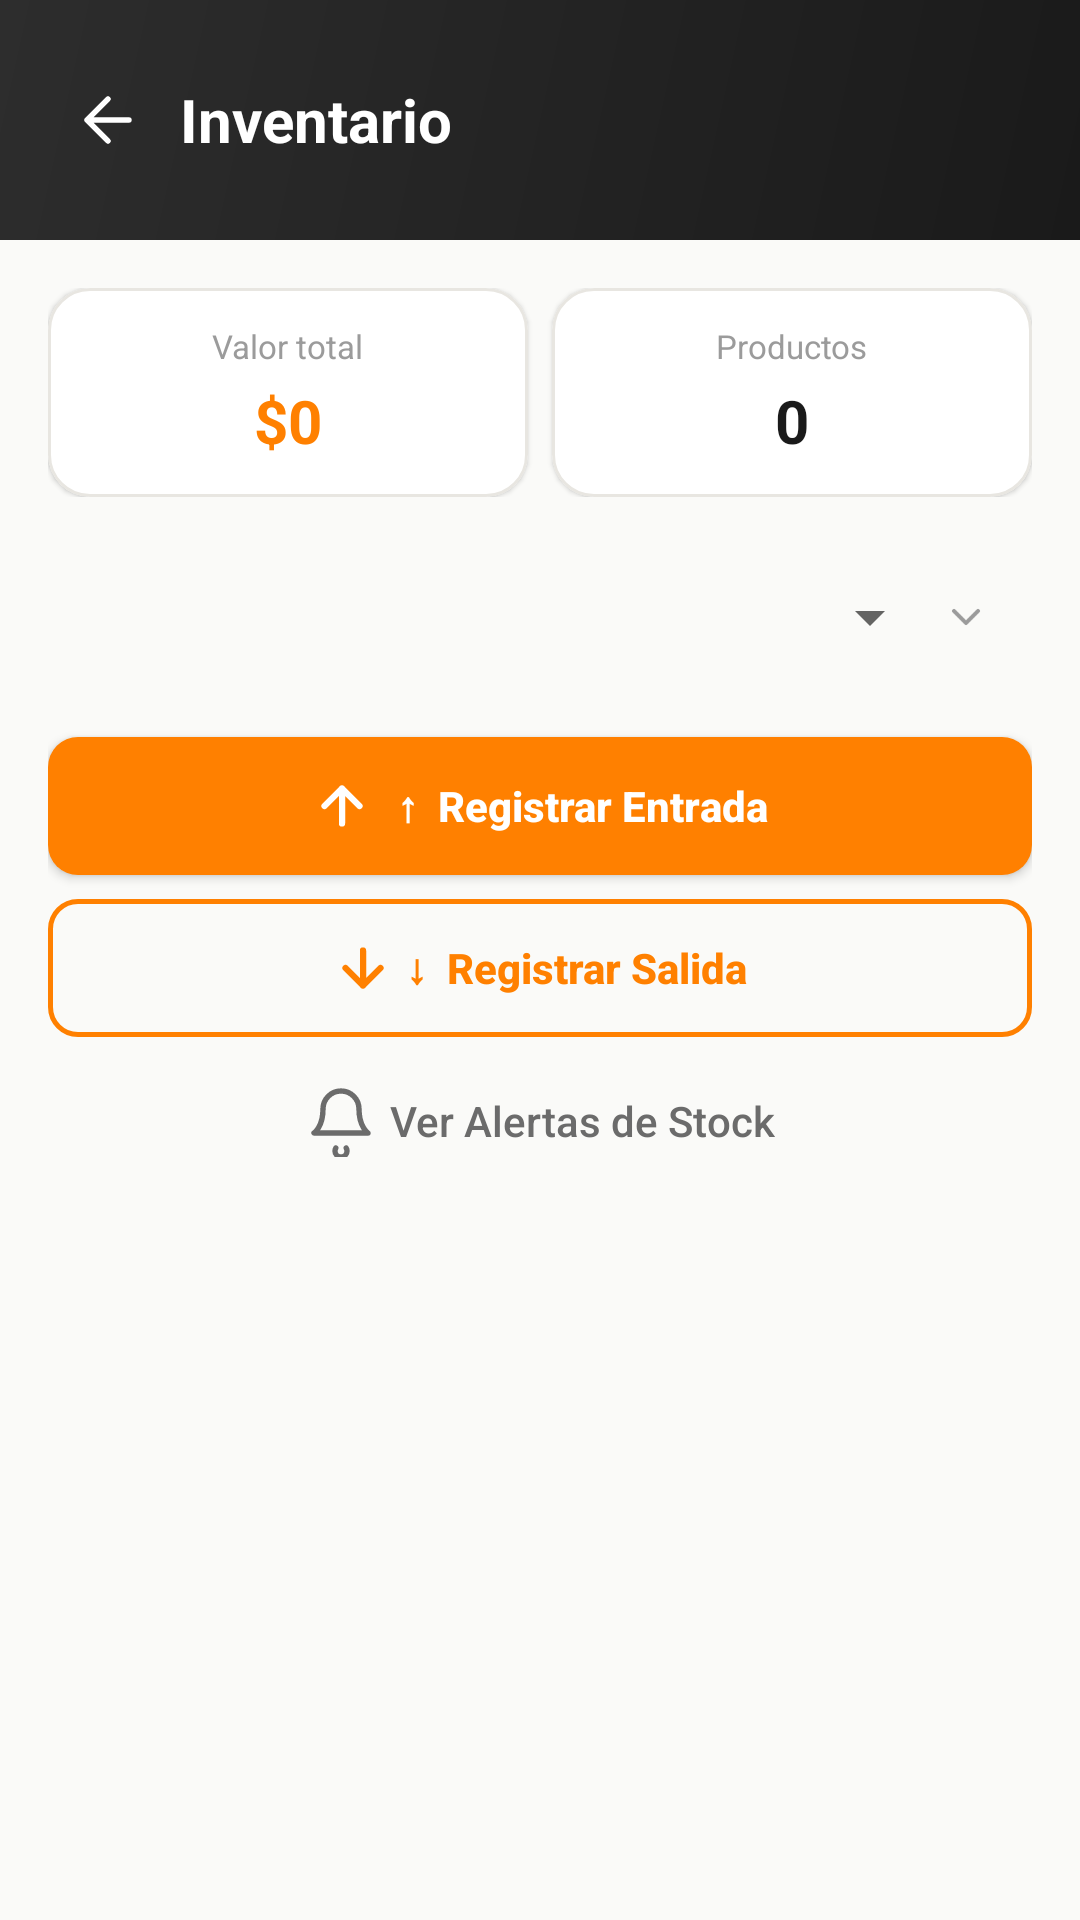

Icon click points for this 1080 x 1920 phone screenshot, format (x=x, y=y):
back: (x=108, y=120)
